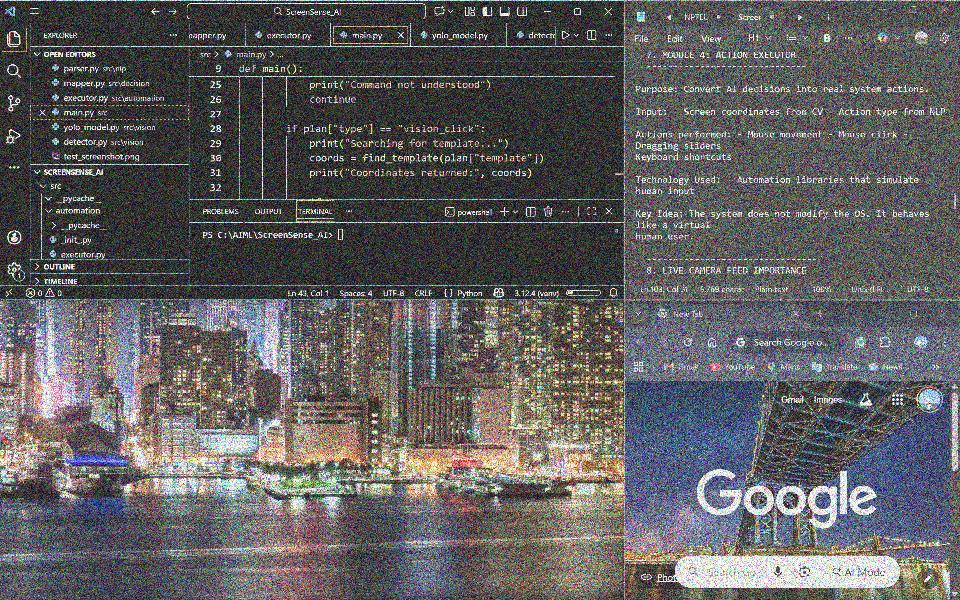close_button: (597, 0, 621, 24), (935, 303, 955, 326), (936, 2, 956, 22)
maximize_button: (904, 1, 929, 24), (566, 0, 592, 22), (904, 302, 927, 326)
minimize_button: (868, 0, 897, 27), (869, 302, 898, 326), (536, 0, 559, 23)
